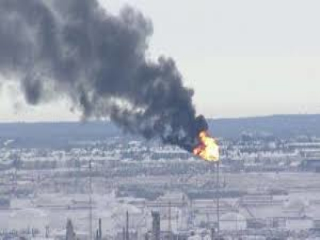fire: (194, 136, 220, 160)
smoke: (27, 10, 198, 151)
